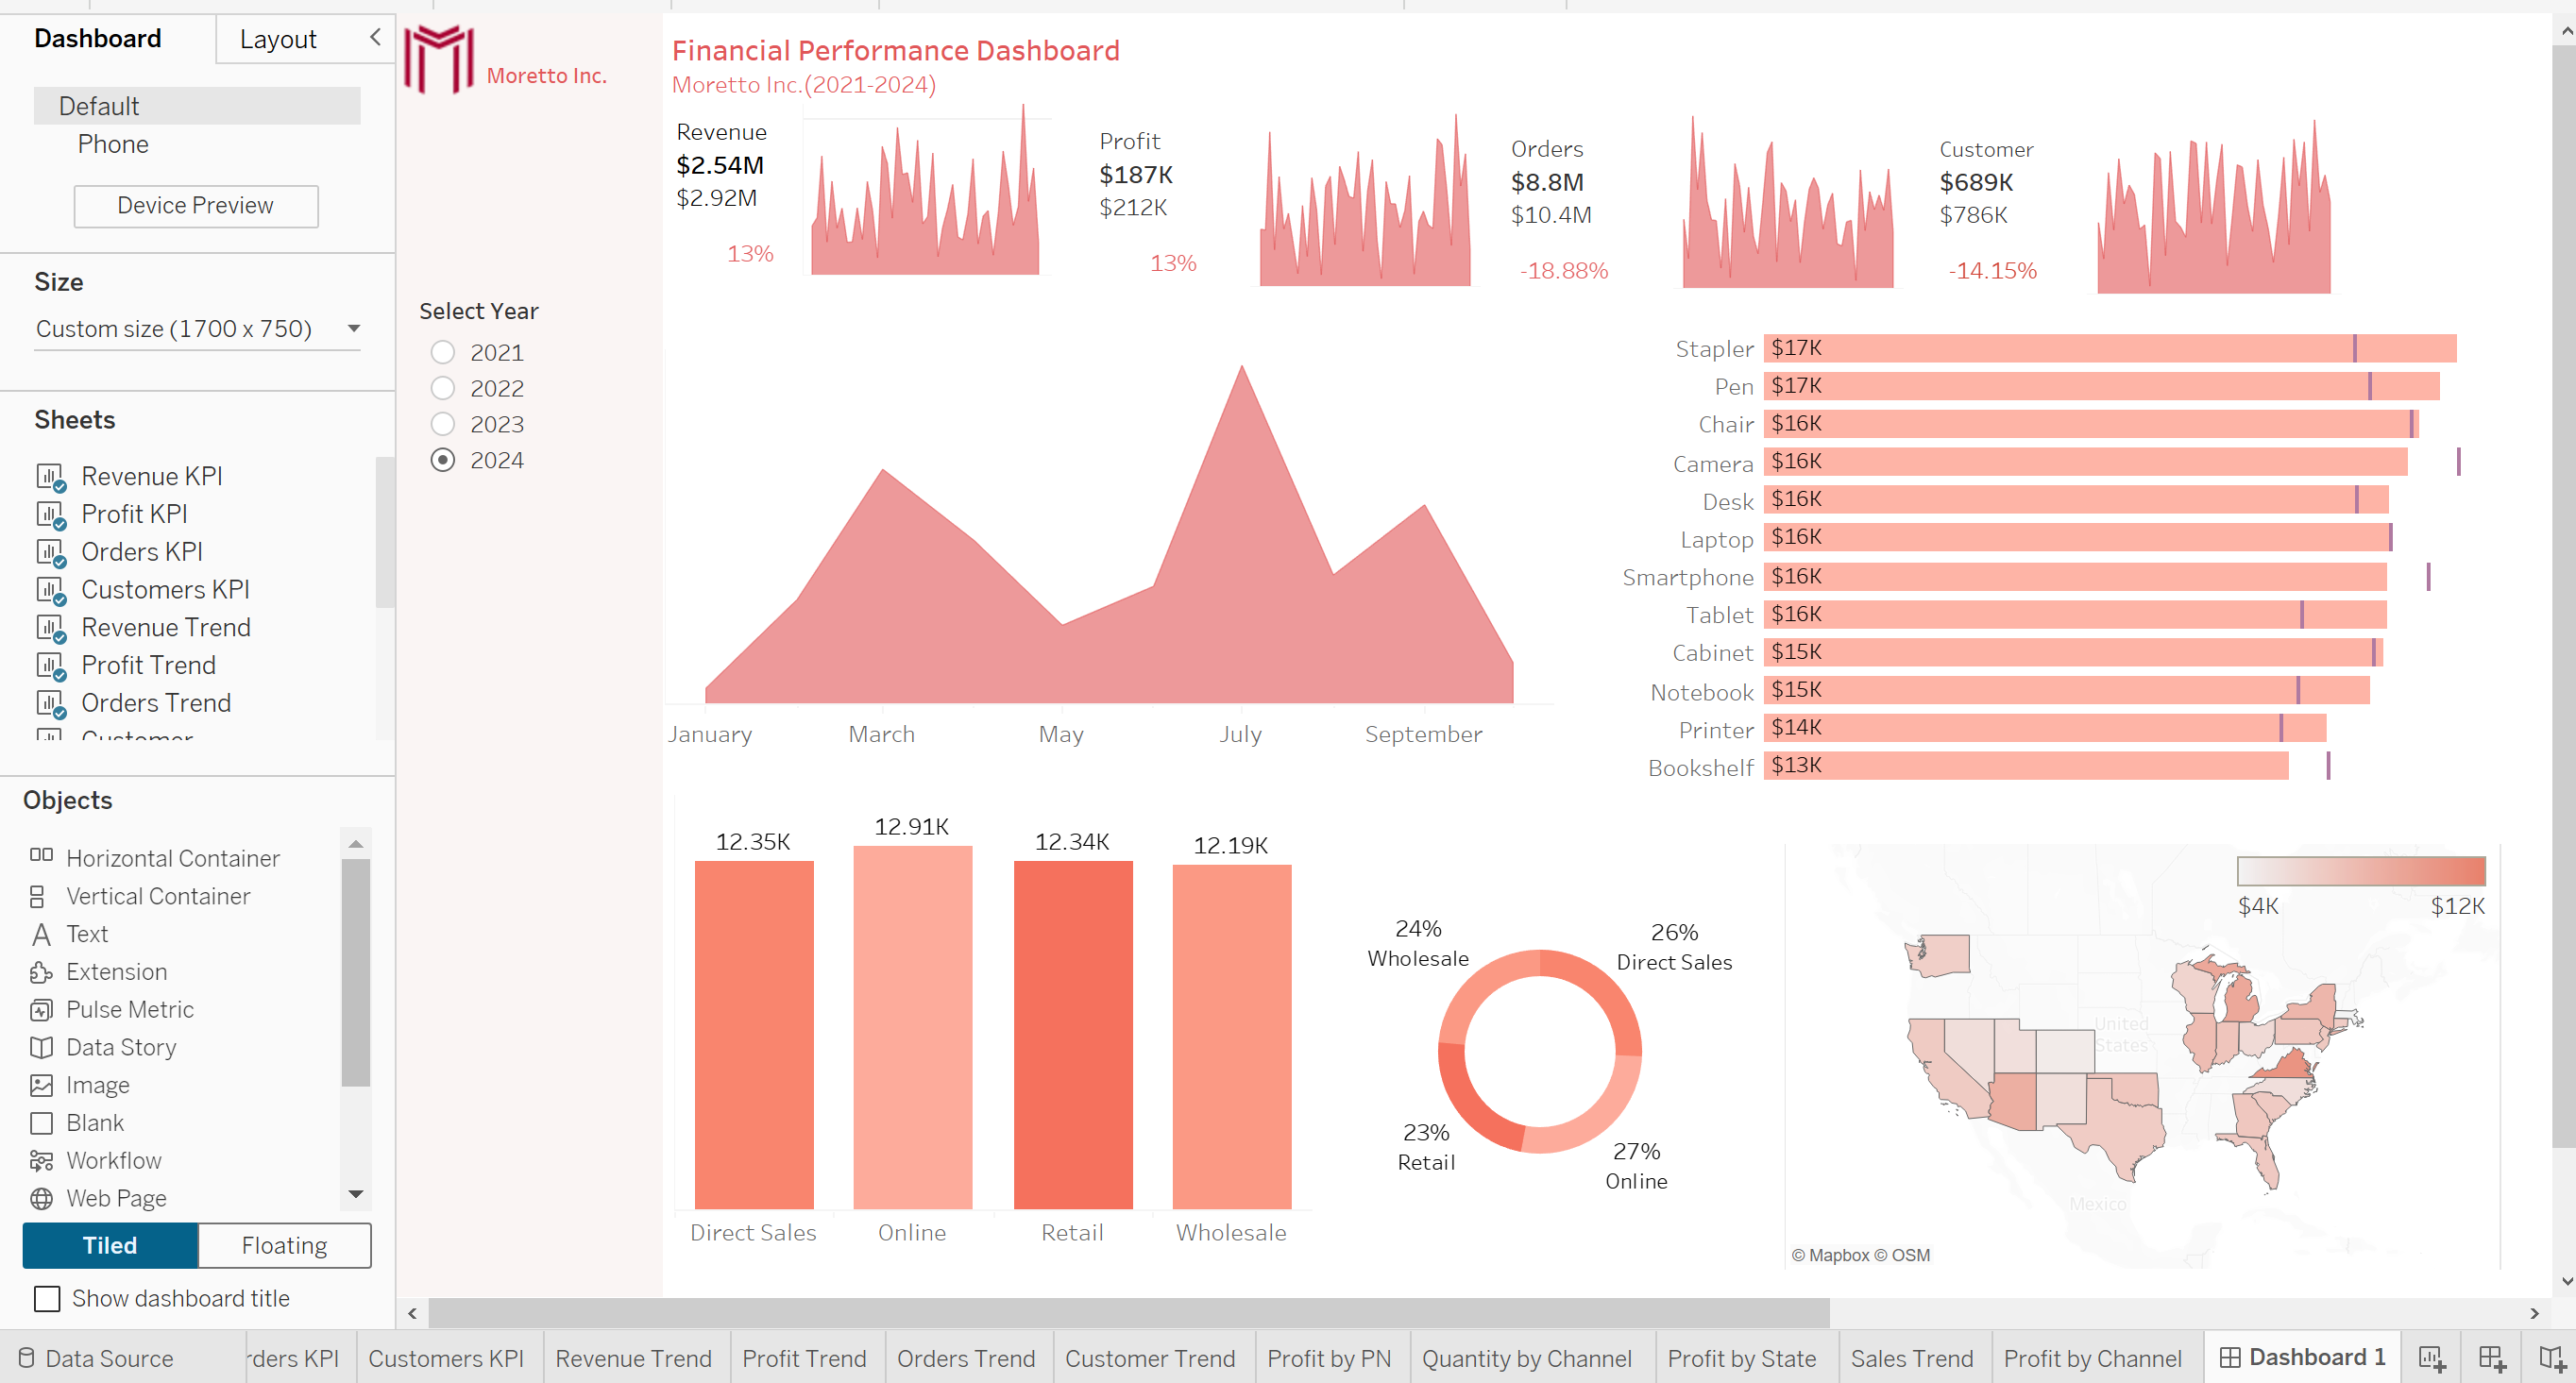

What the dashboard file says about the page in this screenshot:
{"tool":"tableau","page":{"name":"Dashboard 1","canvas":[1700,750],"ordinal":0},"visuals":[{"type":"image","param":"Image/morettttto.png","box":[0,2,60,44]},{"type":"text","box":[143,3,282,49]},{"type":"text","box":[45,21,91,22]},{"type":"worksheet","title":"Revenue Trend","mark":"Area","rows":["Calculation_794603879424659478"],"cols":["order_date"],"box":[215,48,132,91]},{"type":"worksheet","title":"Profit Trend","mark":"Area","rows":["Calculation_794603879427043353"],"cols":["order_date"],"box":[452,49,122,96]},{"type":"worksheet","title":"Revenue KPI","mark":"Automatic","box":[144,50,94,97]},{"type":"worksheet","title":"Orders Trend","mark":"Area","rows":["Calculation_794603879427686426"],"cols":["order_date"],"box":[676,50,122,96]},{"type":"worksheet","title":"Customer Trend","mark":"Area","rows":["Calculation_794603879428071451"],"cols":["order_date"],"box":[895,52,135,97]},{"type":"worksheet","title":"Profit KPI","mark":"Automatic","box":[368,55,88,93]},{"type":"worksheet","title":"Orders KPI","mark":"Automatic","box":[586,59,89,100]},{"type":"worksheet","title":"Customers KPI","mark":"Automatic","box":[813,60,83,103]},{"type":"parameter","param":"[Parameters].[Parameter 1]","box":[12,149,119,125]},{"type":"worksheet","title":"Profit by PN","mark":"Automatic","rows":["product_name"],"cols":["Revenue CY (copy)_794603879375142914","Revenue PY (copy)_794603879375540227"],"box":[644,167,465,242]},{"type":"worksheet","title":"Sales Trend","mark":"Area","rows":["Calculation_794603879372115968"],"cols":["order_date"],"box":[142,178,471,218]},{"type":"worksheet","title":"Quantity by Channel","mark":"Automatic","rows":["quantity"],"cols":["order_channel"],"box":[147,414,338,260]},{"type":"worksheet","title":"Profit by Channel","mark":"Pie","rows":["Calculation_568579474203930625","Calculation_568579474203963395"],"box":[488,431,235,238]},{"type":"worksheet","title":"Profit by State","mark":"Automatic","box":[735,440,380,226]},{"type":"legend","title":"Profit by State","param":"[federated.05hx7gi1m9pwpi1h80x5s1qicb9n].[sum:Revenue CY (copy)_7946038793751429","box":[971,443,140,49]}]}

Visuals, with their boxes on the page's 1700x750 design canvas (x1, y1, x2, y2). These are canvas units, not pixel positions in the 2576x1383 screenshot, which may show the page scaled, cropped or inside an application window:
image: {"left": 0, "top": 2, "right": 60, "bottom": 46}
text: {"left": 143, "top": 3, "right": 425, "bottom": 52}
text: {"left": 45, "top": 21, "right": 136, "bottom": 43}
"Revenue Trend" worksheet (Area marks): {"left": 215, "top": 48, "right": 347, "bottom": 139}
"Profit Trend" worksheet (Area marks): {"left": 452, "top": 49, "right": 574, "bottom": 145}
"Revenue KPI" worksheet: {"left": 144, "top": 50, "right": 238, "bottom": 147}
"Orders Trend" worksheet (Area marks): {"left": 676, "top": 50, "right": 798, "bottom": 146}
"Customer Trend" worksheet (Area marks): {"left": 895, "top": 52, "right": 1030, "bottom": 149}
"Profit KPI" worksheet: {"left": 368, "top": 55, "right": 456, "bottom": 148}
"Orders KPI" worksheet: {"left": 586, "top": 59, "right": 675, "bottom": 159}
"Customers KPI" worksheet: {"left": 813, "top": 60, "right": 896, "bottom": 163}
parameter: {"left": 12, "top": 149, "right": 131, "bottom": 274}
"Profit by PN" worksheet: {"left": 644, "top": 167, "right": 1109, "bottom": 409}
"Sales Trend" worksheet (Area marks): {"left": 142, "top": 178, "right": 613, "bottom": 396}
"Quantity by Channel" worksheet: {"left": 147, "top": 414, "right": 485, "bottom": 674}
"Profit by Channel" worksheet (Pie marks): {"left": 488, "top": 431, "right": 723, "bottom": 669}
"Profit by State" worksheet: {"left": 735, "top": 440, "right": 1115, "bottom": 666}
"Profit by State" legend: {"left": 971, "top": 443, "right": 1111, "bottom": 492}
